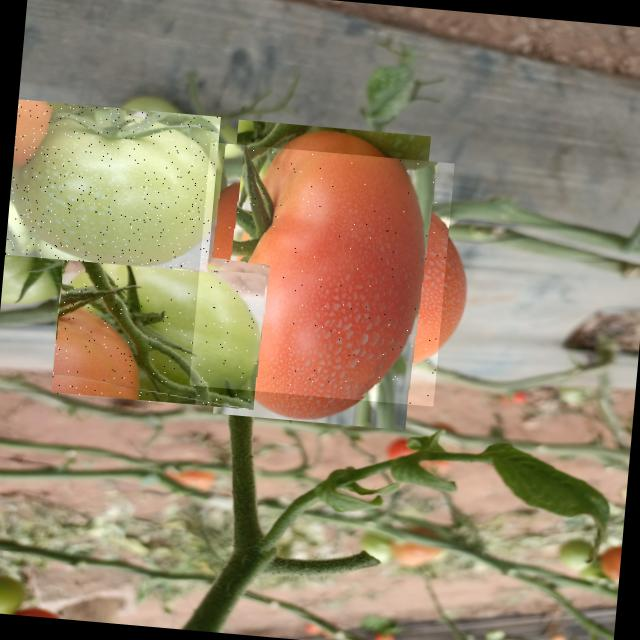Ripe Tomato: (189, 142, 454, 406)
Unripe Tomato: (4, 99, 220, 272), (51, 256, 266, 411)
